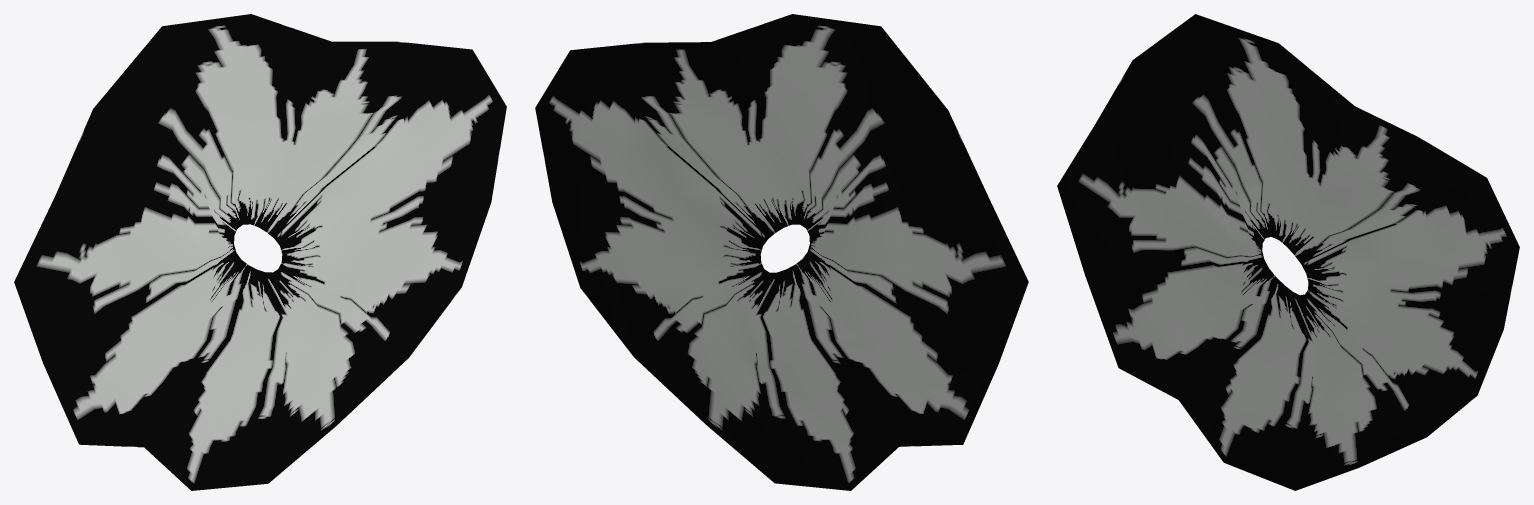
The model's file is dimian009.FBX.
The picture shows the model from 3 angles, left to right: view 1: azimuth 30°, elevation 25°; view 2: azimuth 150°, elevation 25°; view 3: azimuth 330°, elevation 25°; orthographic projection. The views are drawn at different scales.
Visible parts, largest first — view 1: Plane003; view 2: Plane003; view 3: Plane003.
Part boxes in pixels (left/top/right/bottom): Plane003: left=14, top=14, right=506, bottom=490; Plane003: left=535, top=14, right=1028, bottom=490; Plane003: left=1057, top=14, right=1519, bottom=490.
Bounding box in the file's own units: 290 × 271 × 1.38.
